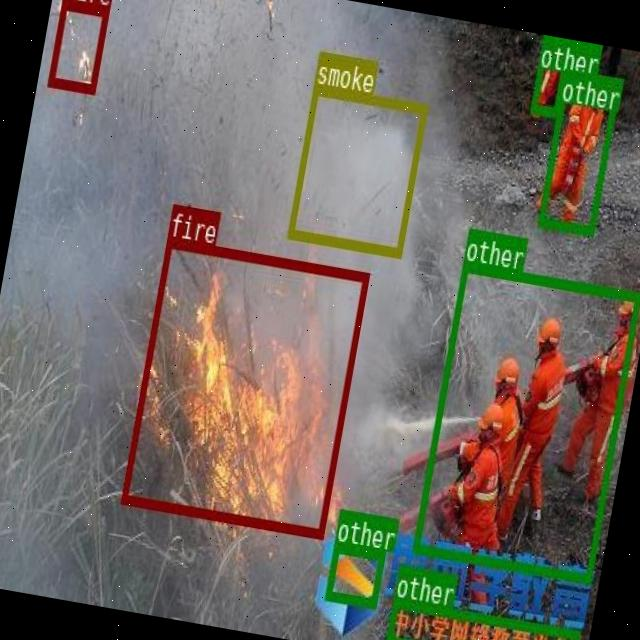fire: (120, 236, 368, 536), (46, 0, 108, 91)
smoke: (287, 83, 427, 256)
